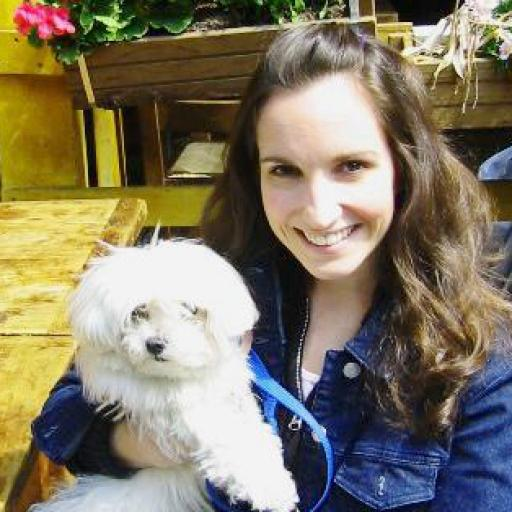dog_face: (66, 242, 252, 391)
